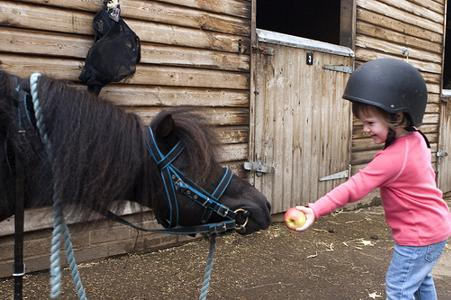person: (295, 59, 451, 300)
